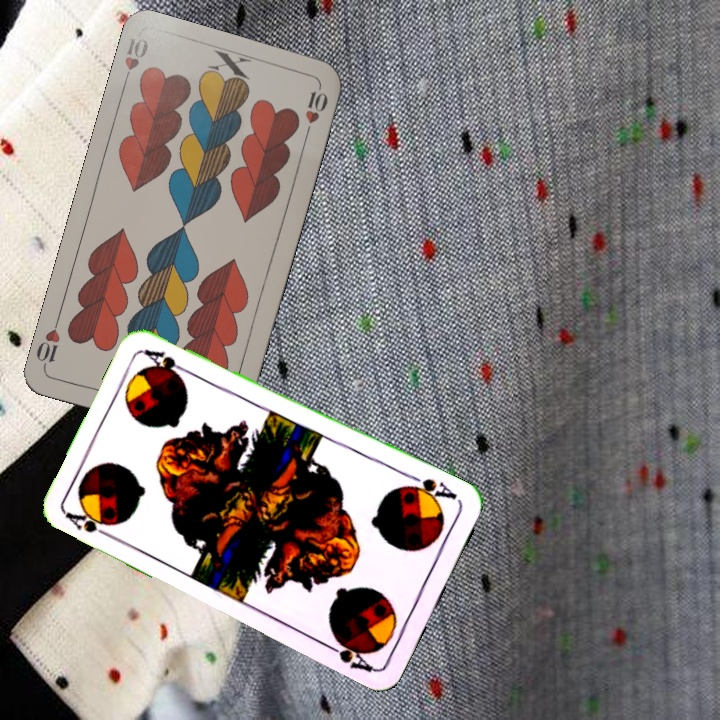H10: (118, 33, 151, 90)
SA: (401, 470, 460, 507), (62, 507, 118, 542)
